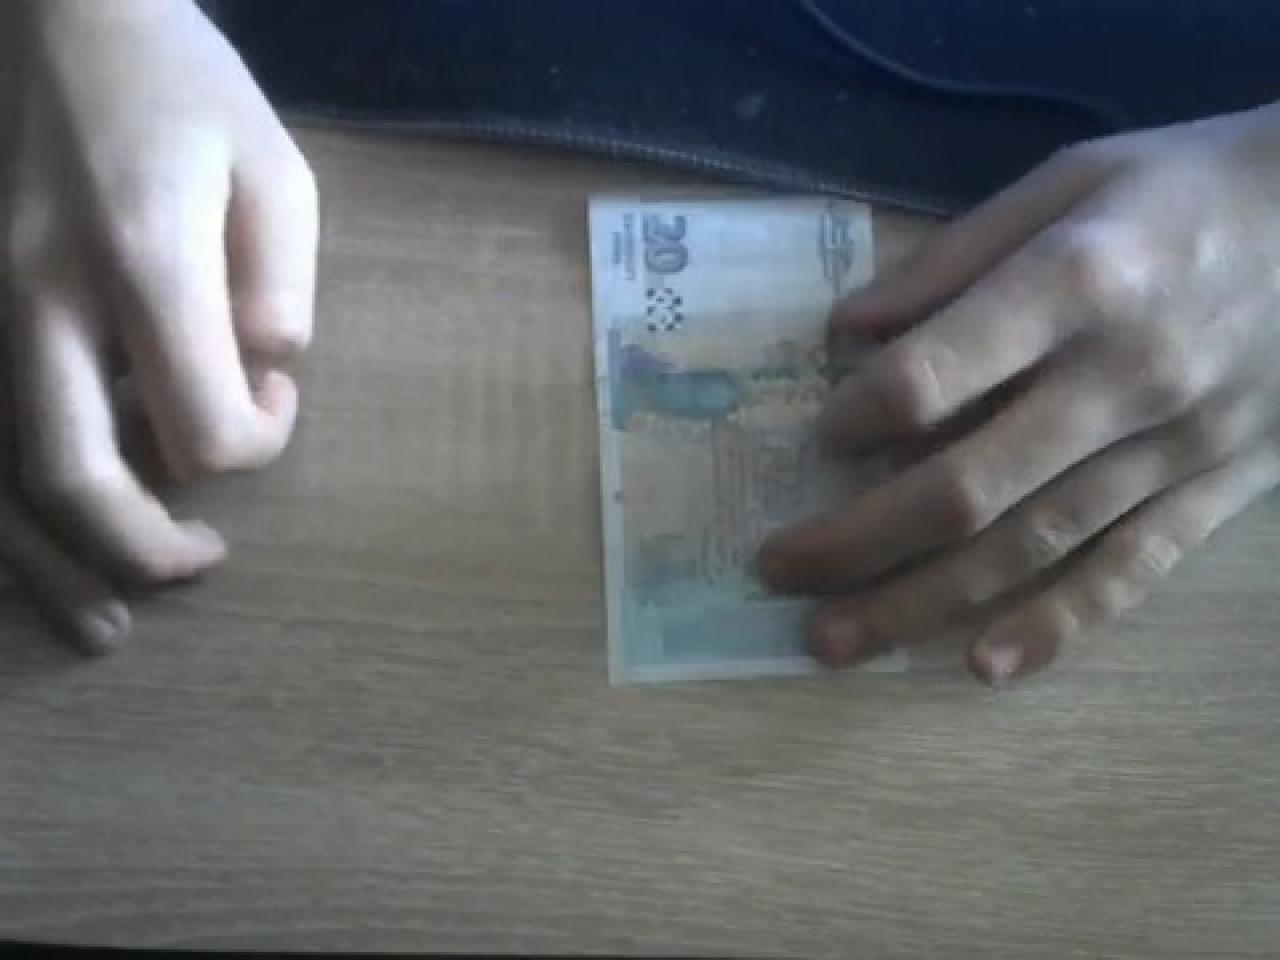20leva: (587, 192, 872, 688)
